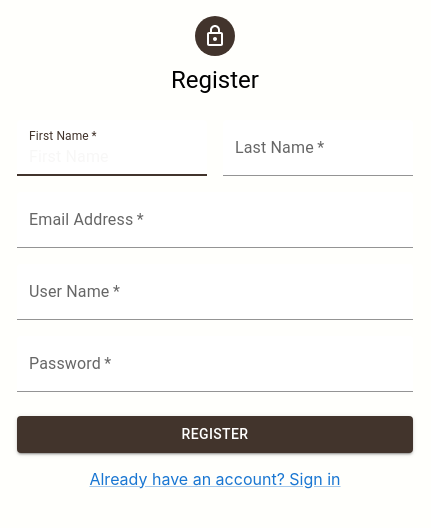
Test: email validation detects incorrect email
In the field with placeholder "Email Address": (215, 220) [17,192,413,248], type "not an email"
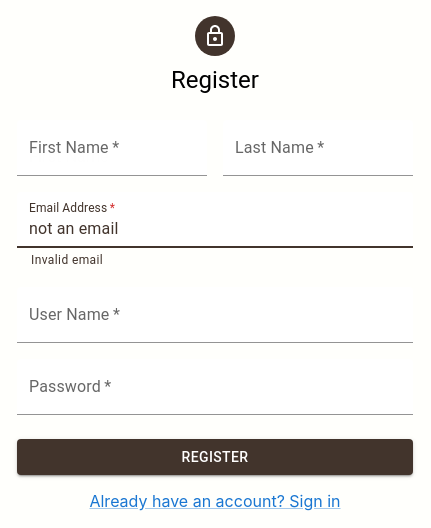
Expected: the text "Invalid email" is shown, [31,253,103,267]
